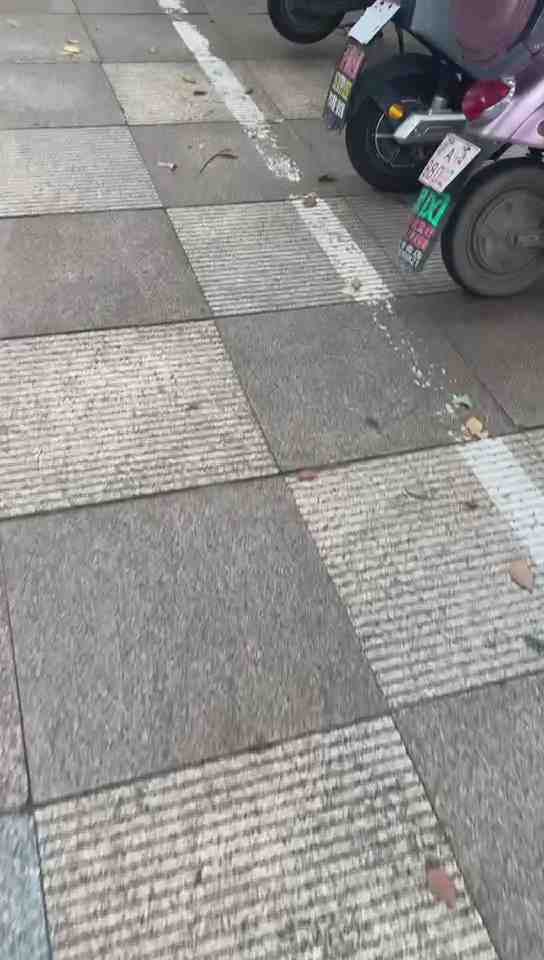leaf: (421, 861, 468, 911), (501, 556, 540, 594), (460, 413, 489, 441)
